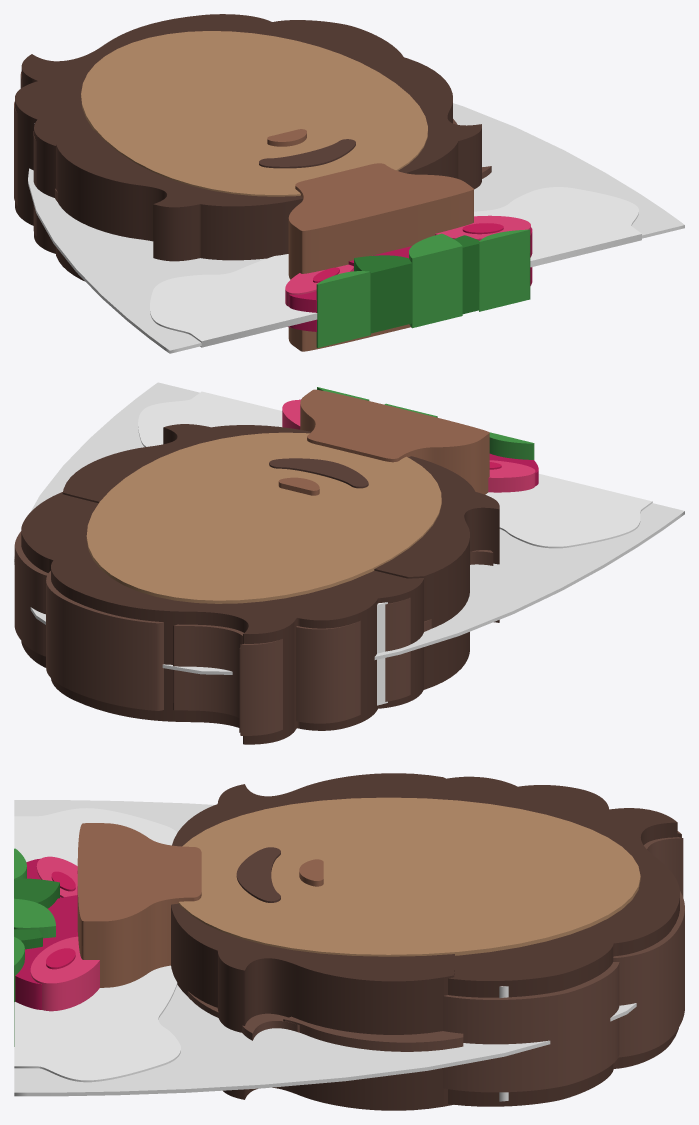
File: emoji_u1f470_1f3fd.glb
The picture shows the model from 3 angles, top to bottom: view 1: azimuth 30°, elevation 25°; view 2: azimuth 150°, elevation 25°; view 3: azimuth 270°, elevation 25°; orthographic projection. The views are drawn at different scales.
Visible parts, largest first — view 1: emoji_u1f470_1f3fd; view 2: emoji_u1f470_1f3fd; view 3: emoji_u1f470_1f3fd.
Part boxes in pixels (x1=…): emoji_u1f470_1f3fd: x1=14, y1=14, x2=684, y2=353; emoji_u1f470_1f3fd: x1=14, y1=382, x2=684, y2=744; emoji_u1f470_1f3fd: x1=14, y1=773, x2=684, y2=1110.
Bounding box in the file's own units: 0.034 × 0.0078 × 0.0329.
